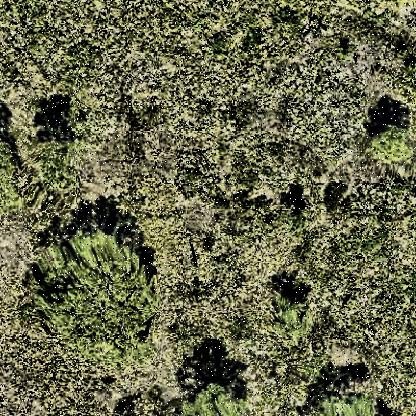tree-top: (34, 235, 160, 362), (268, 291, 315, 342), (179, 383, 251, 416), (36, 146, 82, 195), (365, 124, 415, 166), (279, 191, 311, 234), (307, 398, 383, 416)
